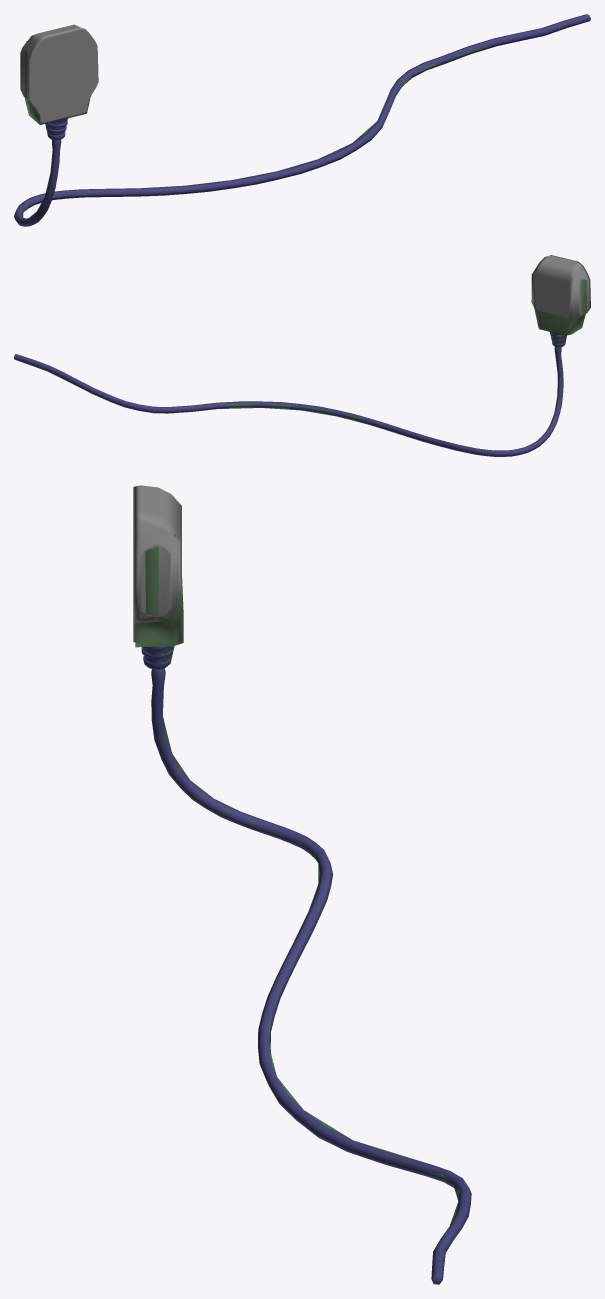
Rendered from PlugCable_05_Mesh.fbx.
3 views of the same model, one above another, from view 1: azimuth 30°, elevation 25°; view 2: azimuth 150°, elevation 25°; view 3: azimuth 270°, elevation 25° (orthographic). The views are drawn at different scales.
Visible parts, largest first — view 1: PlugCableE_01_LOD0, PlugCableE_01_Col1, PlugCableE_01_Col; view 2: PlugCableE_01_LOD0, PlugCableE_01_Col, PlugCableE_01_Col1; view 3: PlugCableE_01_LOD0, PlugCableE_01_Col, PlugCableE_01_Col1.
Boxes of the visible parts, left/top/right/bottom form: PlugCableE_01_LOD0: left=14, top=14, right=590, bottom=226; PlugCableE_01_Col1: left=16, top=22, right=577, bottom=219; PlugCableE_01_Col: left=24, top=41, right=89, bottom=134; PlugCableE_01_LOD0: left=14, top=255, right=590, bottom=456; PlugCableE_01_Col: left=534, top=270, right=590, bottom=346; PlugCableE_01_Col1: left=20, top=358, right=560, bottom=448; PlugCableE_01_LOD0: left=133, top=485, right=471, bottom=1284; PlugCableE_01_Col: left=135, top=534, right=183, bottom=667; PlugCableE_01_Col1: left=157, top=693, right=460, bottom=1242.
Size of what is drawn, in the model's own units: 68.36 by 23.95 by 19.99.
